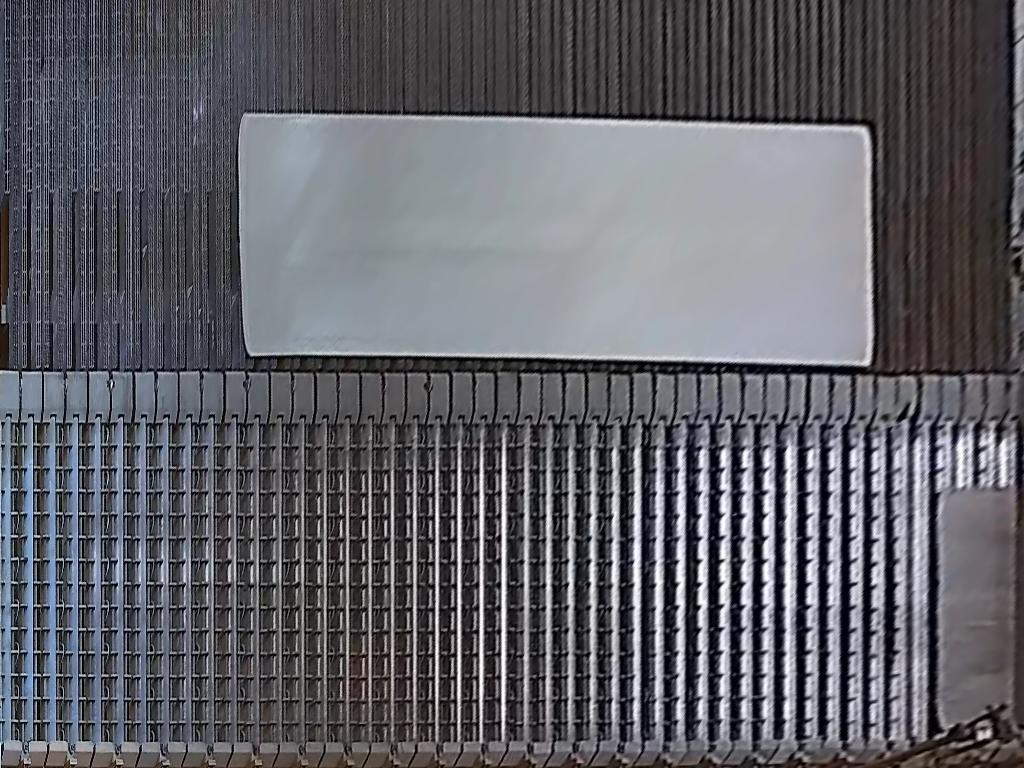steel: (238, 112, 874, 368), (940, 486, 1024, 733)
